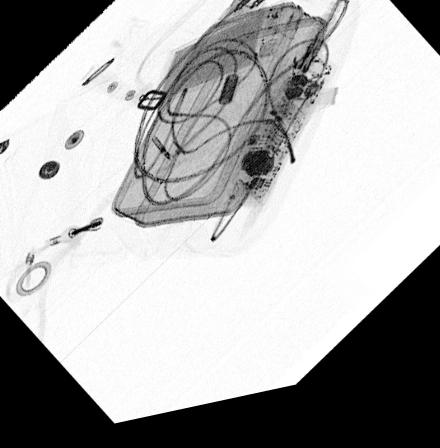Powerbank: (152, 18, 282, 109)
